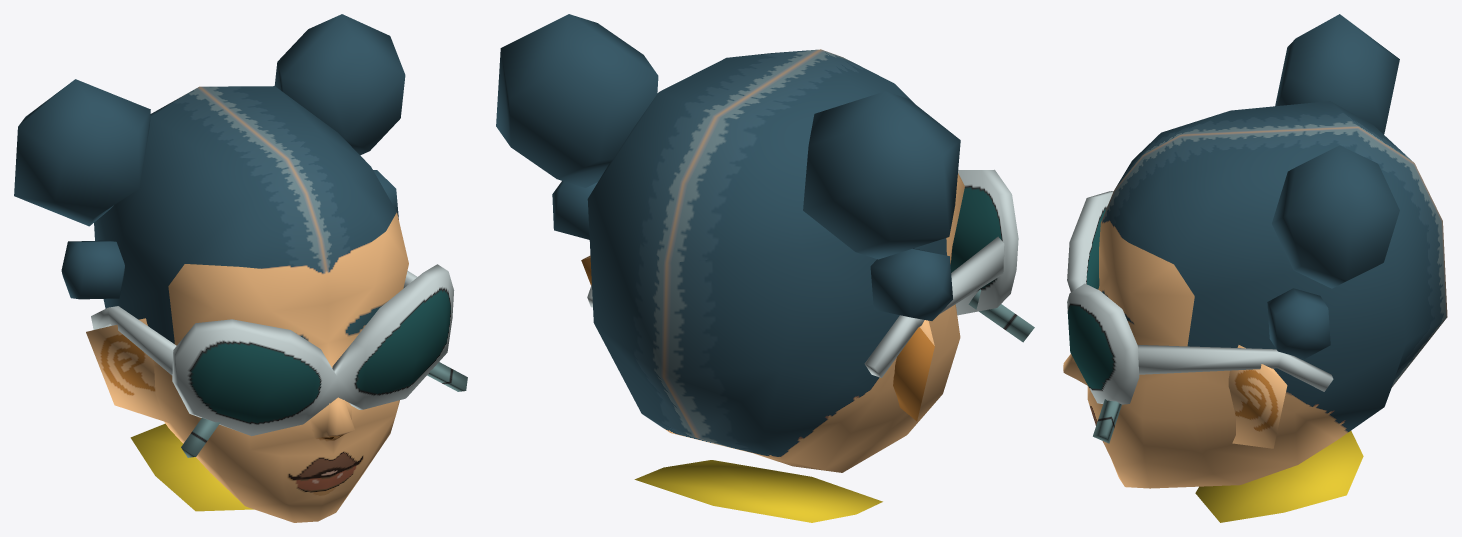
Rendered from VirtualHead.glb.
3 views of the same model, side by side, from view 1: azimuth 30°, elevation 25°; view 2: azimuth 150°, elevation 25°; view 3: azimuth 270°, elevation 25° (orthographic). The views are drawn at different scales.
Parts seen in each view (by area): view 1: SubMesh_0_Mesh_0; view 2: SubMesh_0_Mesh_0; view 3: SubMesh_0_Mesh_0.
Part boxes in pixels (x1,y1,x2,y2): SubMesh_0_Mesh_0: [14, 14, 467, 522]; SubMesh_0_Mesh_0: [496, 14, 1034, 522]; SubMesh_0_Mesh_0: [1063, 14, 1447, 522].
Bounding box in the file's own units: 1.46 × 1.5 × 1.26.
Materials: 1 (1 with a texture image).
